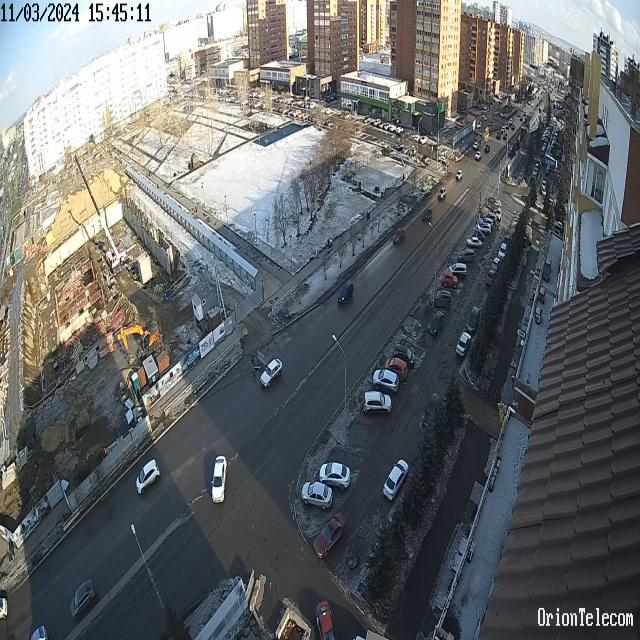car: (313, 510, 347, 561), (70, 574, 96, 624), (383, 457, 410, 503), (300, 479, 334, 513), (317, 460, 352, 493), (419, 390, 442, 440), (136, 456, 161, 498), (313, 596, 336, 640), (211, 454, 228, 506), (364, 390, 392, 420), (260, 357, 284, 390), (372, 368, 400, 396), (427, 285, 453, 312), (385, 354, 408, 384), (393, 343, 416, 372), (337, 280, 355, 309), (455, 331, 473, 360), (428, 308, 444, 338), (441, 268, 459, 293), (466, 303, 480, 333), (446, 261, 468, 279), (458, 246, 475, 266), (392, 225, 407, 247), (466, 235, 483, 251), (475, 222, 493, 237), (437, 185, 448, 203), (421, 209, 433, 224), (487, 269, 497, 287), (491, 256, 502, 272), (498, 242, 507, 260), (455, 168, 464, 184)
